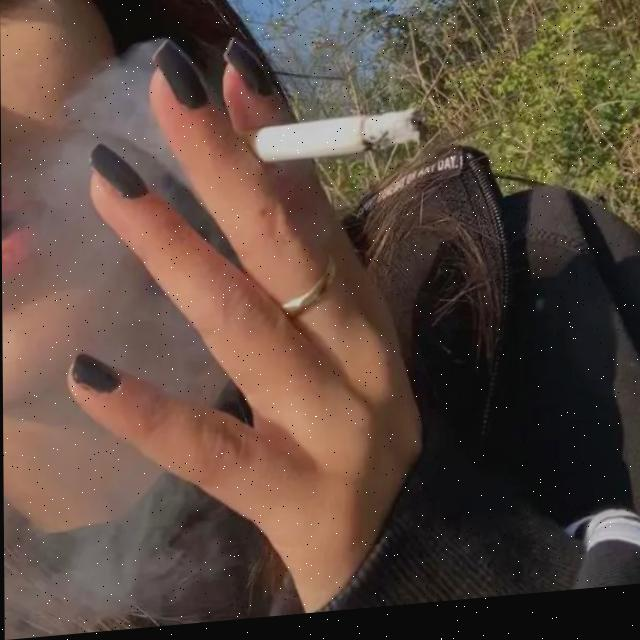cigarette: (238, 114, 430, 170)
